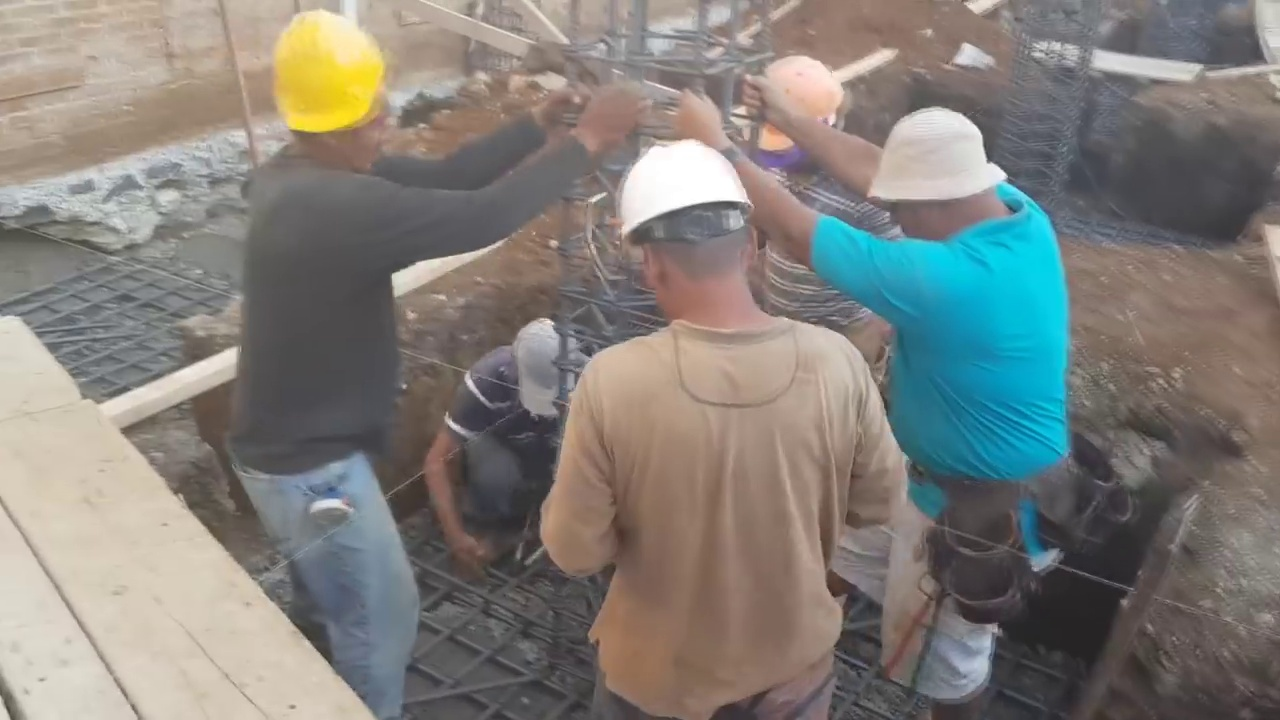helmet: (620, 131, 756, 261), (270, 9, 380, 144), (753, 58, 855, 117)
helmet-off: (868, 103, 1019, 251), (509, 320, 586, 421)
helmet-on: (618, 134, 783, 331), (268, 8, 392, 174), (750, 57, 857, 177)
person: (219, 24, 604, 713), (683, 78, 1081, 710), (542, 115, 909, 720), (749, 58, 896, 384), (436, 321, 592, 594)
